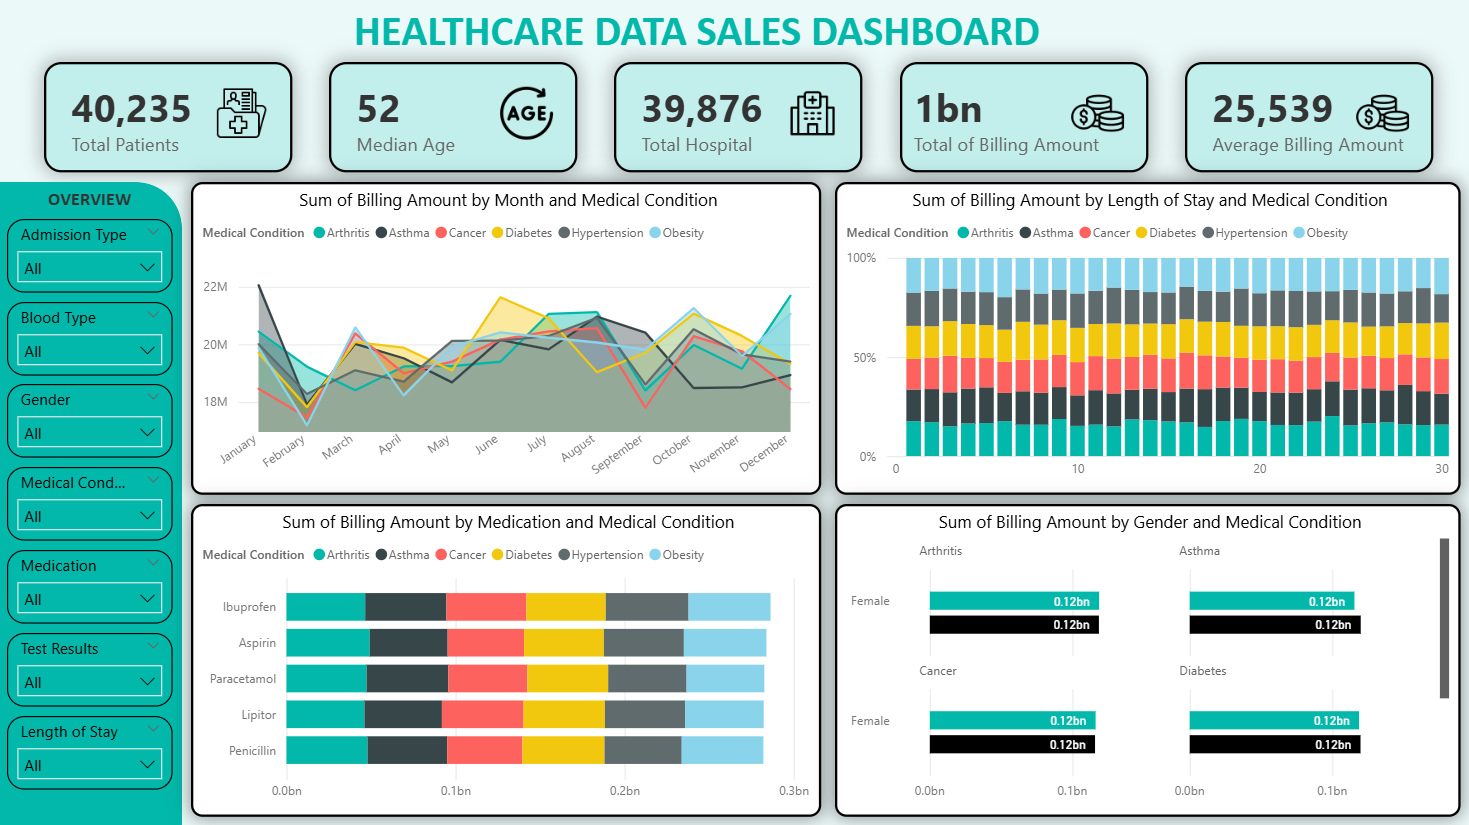

This screenshot's page, from the dashboard's own definition file:
{"tool":"powerbi","page":{"name":"Healthcare Data Sales Dashboard","canvas":[1280,720],"ordinal":1},"visuals":[{"type":"textbox","box":[304,0,664,56],"z":0},{"type":"cardVisual","fields":{"Data":["healthcare_dataset_clean.Total Patients"]},"box":[40,56,216,96],"z":1000},{"type":"cardVisual","fields":{"Data":["healthcare_dataset_clean.Total Hospital"]},"box":[536,56,216,96],"z":2000},{"type":"cardVisual","fields":{"Data":["Sum(healthcare_dataset_clean.Billing Amount)"]},"box":[784,56,216,96],"z":3000},{"type":"cardVisual","fields":{"Data":["healthcare_dataset_clean.Median Age"]},"box":[288,56,216,96],"z":4000},{"type":"cardVisual","fields":{"Data":["healthcare_dataset_clean.Average Billing Amount"]},"box":[1032,56,216,96],"z":5000},{"type":"image","box":[664,72,88,56],"z":6000},{"type":"image","box":[168,72,88,56],"z":7000},{"type":"image","box":[1160,72,88,56],"z":8000},{"type":"image","box":[912,72,88,56],"z":9000},{"type":"image","box":[416,72,88,56],"z":10000},{"type":"shape","box":[0,160,160,560],"z":11000},{"type":"textbox","box":[8,160,144,32],"z":12000},{"type":"slicer","fields":{"Values":["healthcare_dataset_clean.Admission Type"]},"box":[8,192,144,64],"z":13000},{"type":"slicer","fields":{"Values":["healthcare_dataset_clean.Blood Type"]},"box":[8,264,144,64],"z":14000},{"type":"slicer","fields":{"Values":["healthcare_dataset_clean.Gender"]},"box":[8,336,144,64],"z":15000},{"type":"slicer","fields":{"Values":["healthcare_dataset_clean.Medical Condition"]},"box":[8,408,144,64],"z":16000},{"type":"slicer","fields":{"Values":["healthcare_dataset_clean.Medication"]},"box":[8,480,144,64],"z":17000},{"type":"slicer","fields":{"Values":["healthcare_dataset_clean.Test Results"]},"box":[8,552,144,64],"z":18000},{"type":"slicer","fields":{"Values":["healthcare_dataset_clean.Length of Stay"]},"box":[8,624,144,64],"z":19000},{"type":"areaChart","fields":{"Category":["healthcare_dataset_clean.Date of Admission.Variation.Date Hierarchy.Month"],"Y":["Sum(healthcare_dataset_clean.Billing Amount)"],"Series":["healthcare_dataset_clean.Medical Condition"]},"box":[168,160,548,272],"z":20000},{"type":"hundredPercentStackedColumnChart","fields":{"Category":["healthcare_dataset_clean.Length of Stay"],"Y":["Sum(healthcare_dataset_clean.Billing Amount)"],"Series":["healthcare_dataset_clean.Medical Condition"]},"box":[728,160,544,272],"z":21000},{"type":"barChart","fields":{"Y":["Sum(healthcare_dataset_clean.Billing Amount)"],"Category":["healthcare_dataset_clean.Medication"],"Series":["healthcare_dataset_clean.Medical Condition"]},"box":[168,440,548,272],"z":22000},{"type":"barChart","fields":{"Category":["healthcare_dataset_clean.Gender"],"Y":["Sum(healthcare_dataset_clean.Billing Amount)"],"Rows":["healthcare_dataset_clean.Medical Condition"]},"box":[728,440,544,272],"z":23000}]}

Visuals, with their boxes in screenshot pixels (x1, y1, x2, y2), scaled from the page's 1280x720 canvas onto the 1469x825 screenshot:
textbox: <region>349, 0, 1111, 64</region>
cardVisual - healthcare_dataset_clean.Total Patients: <region>46, 64, 294, 174</region>
cardVisual - healthcare_dataset_clean.Total Hospital: <region>615, 64, 863, 174</region>
cardVisual - Sum(healthcare_dataset_clean.Billing Amount): <region>900, 64, 1148, 174</region>
cardVisual - healthcare_dataset_clean.Median Age: <region>331, 64, 578, 174</region>
cardVisual - healthcare_dataset_clean.Average Billing Amount: <region>1184, 64, 1432, 174</region>
image: <region>762, 82, 863, 147</region>
image: <region>193, 82, 294, 147</region>
image: <region>1331, 82, 1432, 147</region>
image: <region>1047, 82, 1148, 147</region>
image: <region>477, 82, 578, 147</region>
shape: <region>0, 183, 184, 824</region>
textbox: <region>9, 183, 174, 220</region>
slicer - healthcare_dataset_clean.Admission Type: <region>9, 220, 174, 293</region>
slicer - healthcare_dataset_clean.Blood Type: <region>9, 302, 174, 376</region>
slicer - healthcare_dataset_clean.Gender: <region>9, 385, 174, 458</region>
slicer - healthcare_dataset_clean.Medical Condition: <region>9, 467, 174, 541</region>
slicer - healthcare_dataset_clean.Medication: <region>9, 550, 174, 623</region>
slicer - healthcare_dataset_clean.Test Results: <region>9, 632, 174, 706</region>
slicer - healthcare_dataset_clean.Length of Stay: <region>9, 715, 174, 788</region>
areaChart - healthcare_dataset_clean.Date of Admission.Variation.Date Hierarchy.Month x Sum(healthcare_dataset_clean.Billing Amount): <region>193, 183, 822, 495</region>
hundredPercentStackedColumnChart - healthcare_dataset_clean.Length of Stay x Sum(healthcare_dataset_clean.Billing Amount): <region>835, 183, 1460, 495</region>
barChart - Sum(healthcare_dataset_clean.Billing Amount) x healthcare_dataset_clean.Medication: <region>193, 504, 822, 816</region>
barChart - healthcare_dataset_clean.Gender x Sum(healthcare_dataset_clean.Billing Amount): <region>835, 504, 1460, 816</region>
